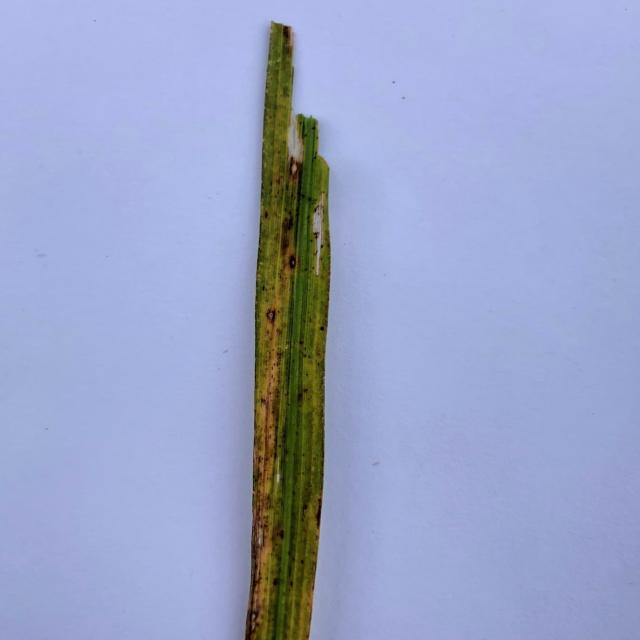tungro: (242, 156, 286, 640)
